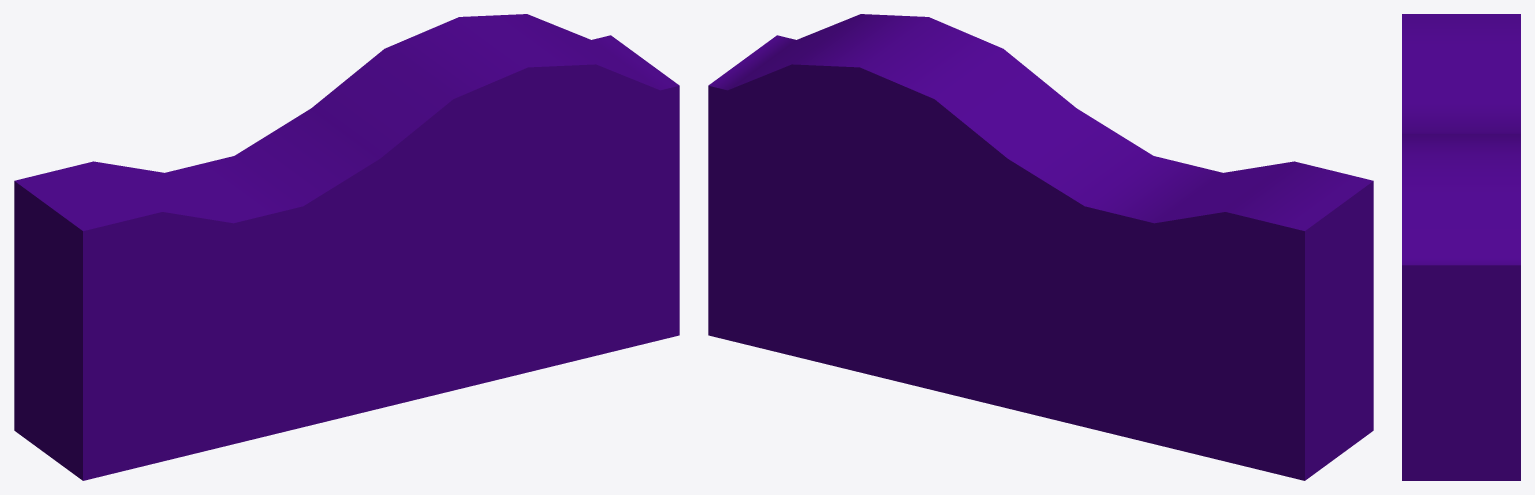
3 renders of one model, left to right at view 1: azimuth 30°, elevation 25°; view 2: azimuth 150°, elevation 25°; view 3: azimuth 270°, elevation 25°, orthographic. The views are drawn at different scales.
Visible parts, largest first — view 1: pCube19; view 2: pCube19; view 3: pCube19.
Boxes of the visible parts, bbox=[...] form: pCube19: bbox=[14, 14, 679, 480]; pCube19: bbox=[708, 14, 1373, 480]; pCube19: bbox=[1402, 14, 1520, 480].
Bounding box in the file's own units: 25 × 12.21 × 5.
